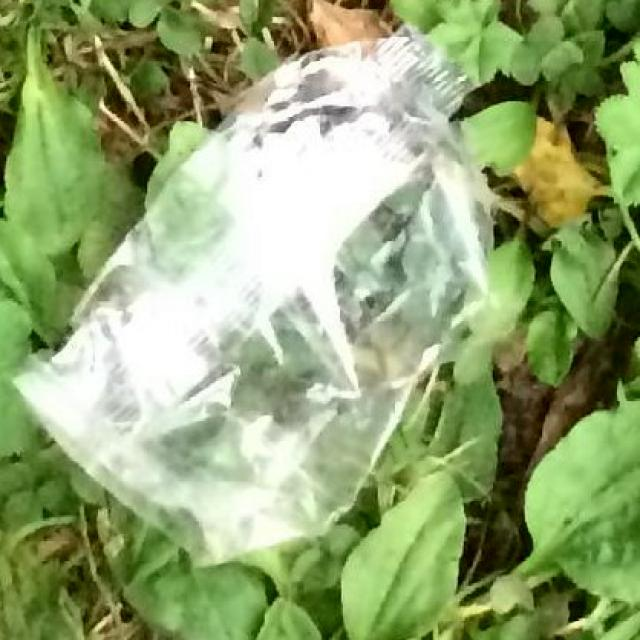Trash: (0, 14, 500, 592)
